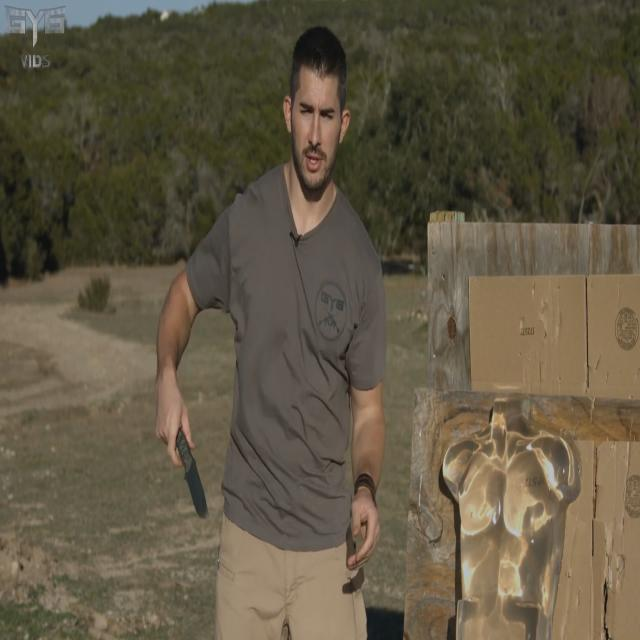knife: (176, 426, 214, 524)
